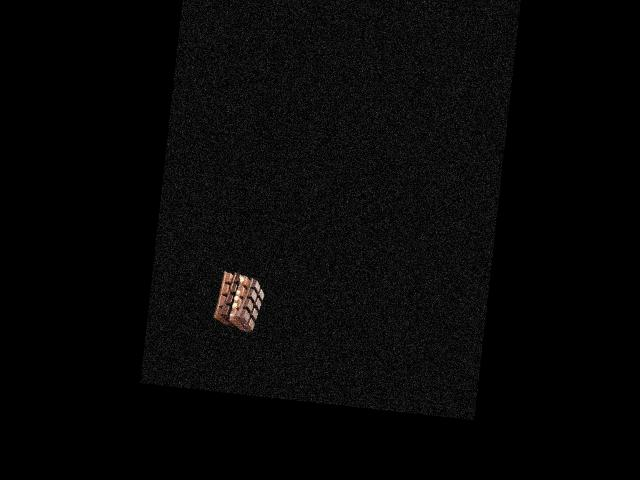chocolate: (210, 270, 266, 329)
